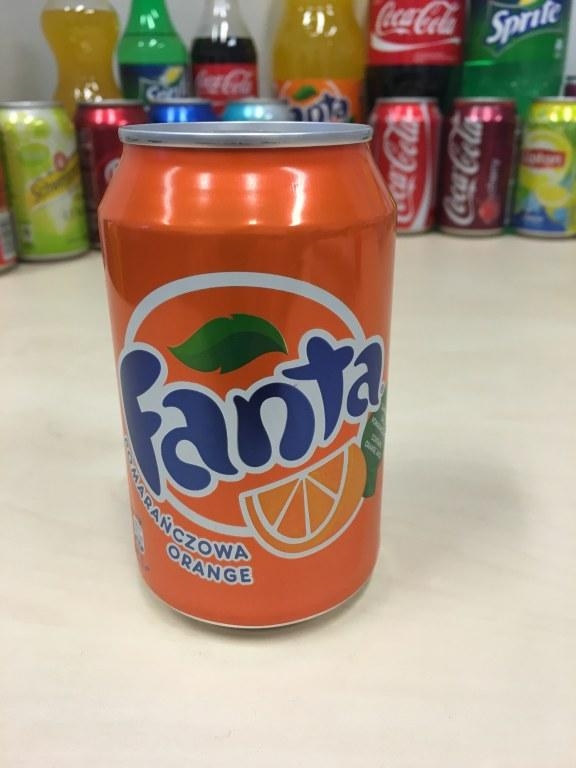metal: (99, 121, 396, 628)
